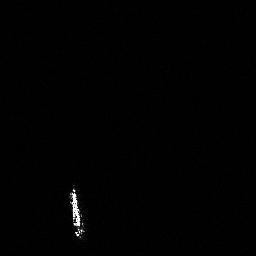ship: (66, 181, 89, 241)
